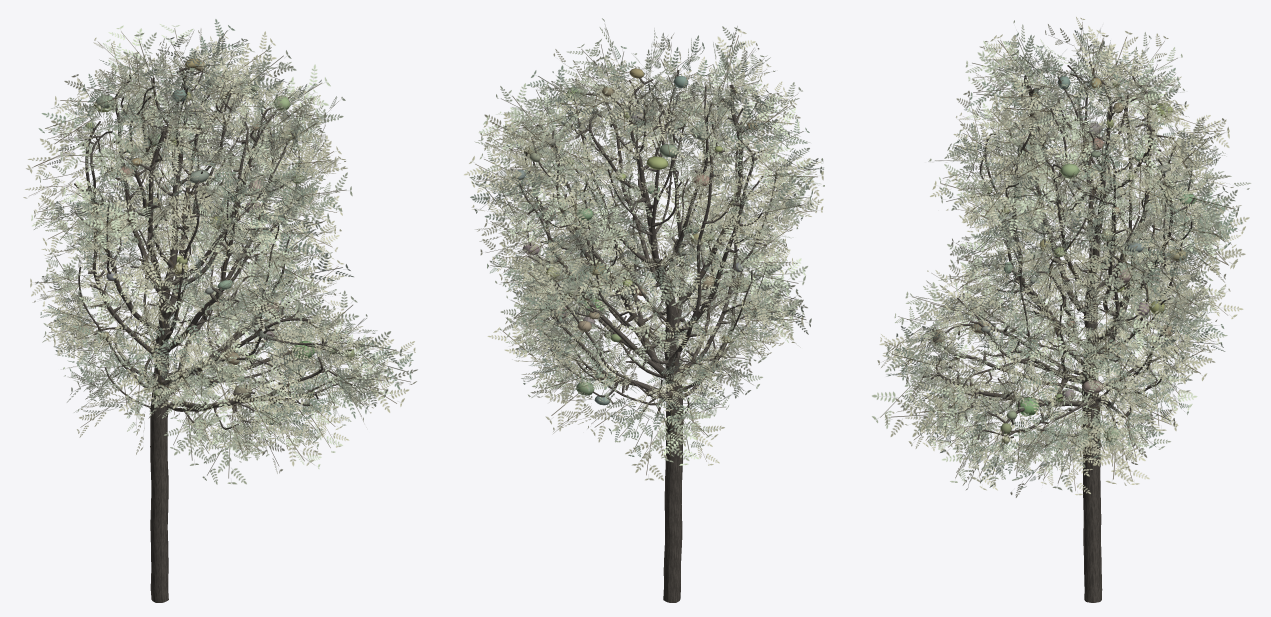
Rendered from tree_47_broadleaf.glb.
3 views of the same model, side by side, from view 1: azimuth 30°, elevation 25°; view 2: azimuth 150°, elevation 25°; view 3: azimuth 270°, elevation 25° (orthographic). The views are drawn at different scales.
Visible parts, largest first — view 1: tree_47_broadleaf.leaves, tree_47_broadleaf.trunk_branches, tree_47_broadleaf.foliage_volume; view 2: tree_47_broadleaf.leaves, tree_47_broadleaf.trunk_branches, tree_47_broadleaf.foliage_volume; view 3: tree_47_broadleaf.leaves, tree_47_broadleaf.trunk_branches, tree_47_broadleaf.foliage_volume.
Boxes of the visible parts, <box> form: tree_47_broadleaf.leaves: <box>23,19,417,484</box>; tree_47_broadleaf.trunk_branches: <box>74,67,361,602</box>; tree_47_broadleaf.foliage_volume: <box>85,58,355,425</box>; tree_47_broadleaf.leaves: <box>464,18,824,480</box>; tree_47_broadleaf.trunk_branches: <box>519,70,777,602</box>; tree_47_broadleaf.foliage_volume: <box>513,68,756,405</box>; tree_47_broadleaf.leaves: <box>872,17,1250,497</box>; tree_47_broadleaf.trunk_branches: <box>922,61,1194,602</box>; tree_47_broadleaf.foliage_volume: <box>932,76,1196,443</box>.
Bounding box in the file's own units: 9.9 × 15.48 × 9.64.
Materials: 3 (2 with a texture image).
